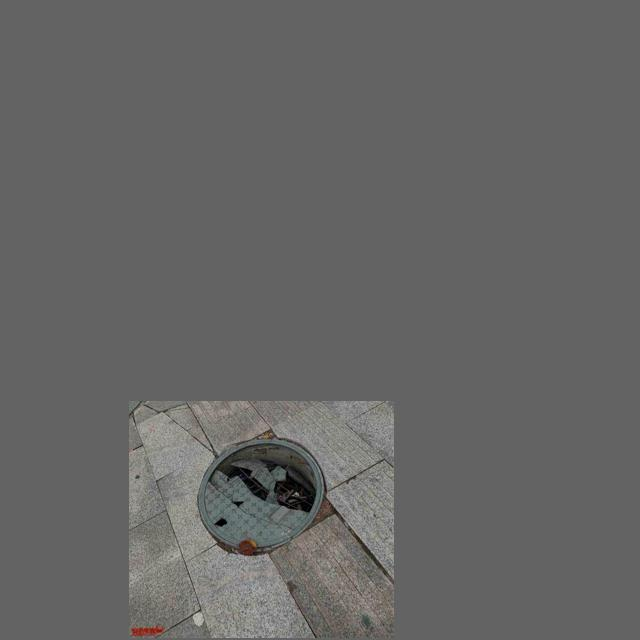broke: (193, 435, 328, 557)
